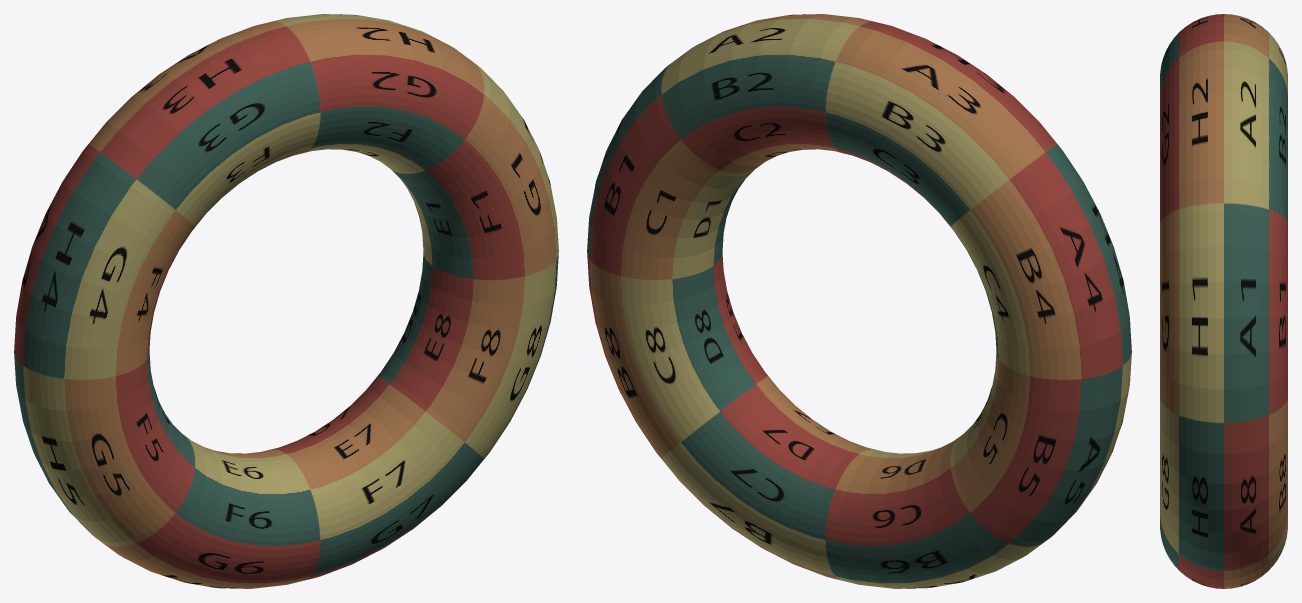
Rendered from texture_torus_R15_r14.glb.
3 views of the same model, side by side, from view 1: azimuth 30°, elevation 25°; view 2: azimuth 150°, elevation 25°; view 3: azimuth 270°, elevation 25° (orthographic). The views are drawn at different scales.
Visible parts, largest first — view 1: world; view 2: world; view 3: world.
Part boxes in pixels (x1,y1,x2,y2): world: (14, 14, 558, 588); world: (587, 14, 1131, 588); world: (1160, 14, 1287, 588).
Bounding box in the file's own units: 25.73 × 25.68 × 5.72.
Materials: 1 (1 with a texture image).
